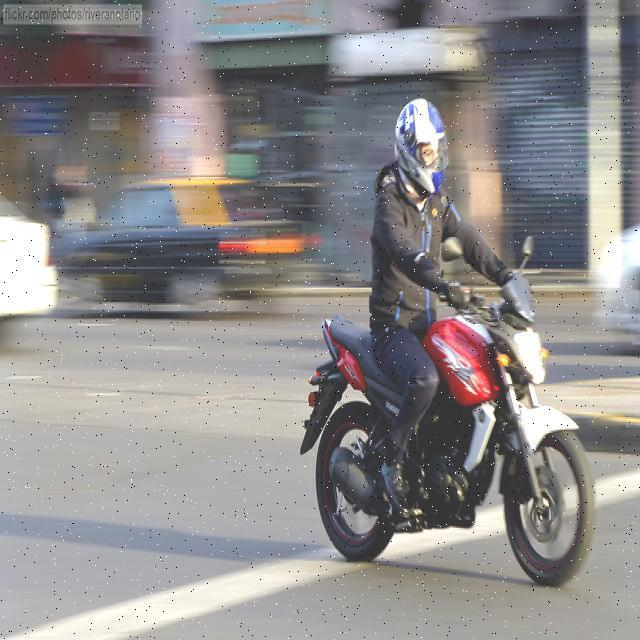motorcycle: (275, 271, 624, 587)
plate: (1, 1, 145, 31)
